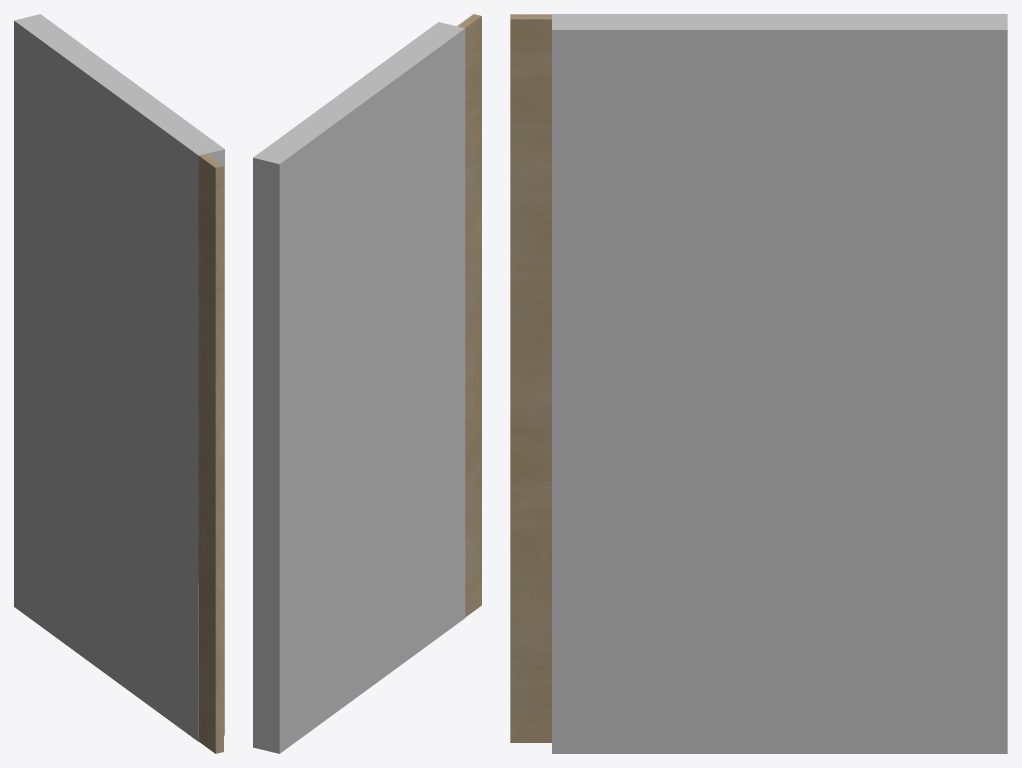
The model's file is SM_DG_InsideWallpaper01G.fbx.
3 renders of one model, left to right at view 1: azimuth 30°, elevation 25°; view 2: azimuth 150°, elevation 25°; view 3: azimuth 270°, elevation 25°, orthographic. The views are drawn at different scales.
Visible parts, largest first — view 1: SM_DG_InsideWallpaper01G_ConvexHulls, SM_DG_InsideWallpaper01G; view 2: SM_DG_InsideWallpaper01G_ConvexHulls, SM_DG_InsideWallpaper01G; view 3: SM_DG_InsideWallpaper01G_ConvexHulls, SM_DG_InsideWallpaper01G.
Boxes of the visible parts, box(x1,y1,x2,y2) form: SM_DG_InsideWallpaper01G_ConvexHulls: box(14, 14, 224, 741); SM_DG_InsideWallpaper01G: box(198, 153, 223, 753); SM_DG_InsideWallpaper01G_ConvexHulls: box(253, 22, 465, 753); SM_DG_InsideWallpaper01G: box(457, 14, 481, 617); SM_DG_InsideWallpaper01G_ConvexHulls: box(552, 14, 1007, 753); SM_DG_InsideWallpaper01G: box(510, 14, 551, 742).
Size of the model in its own units: 13.44 by 177 by 285.
